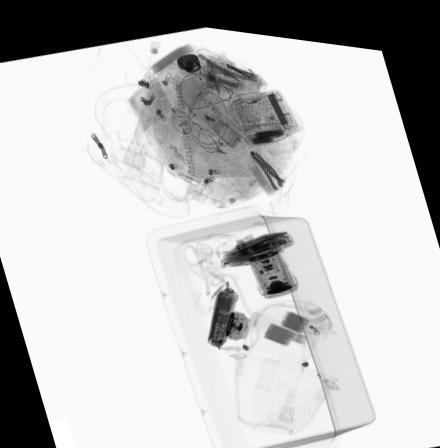Lighter: (210, 97, 235, 122)
